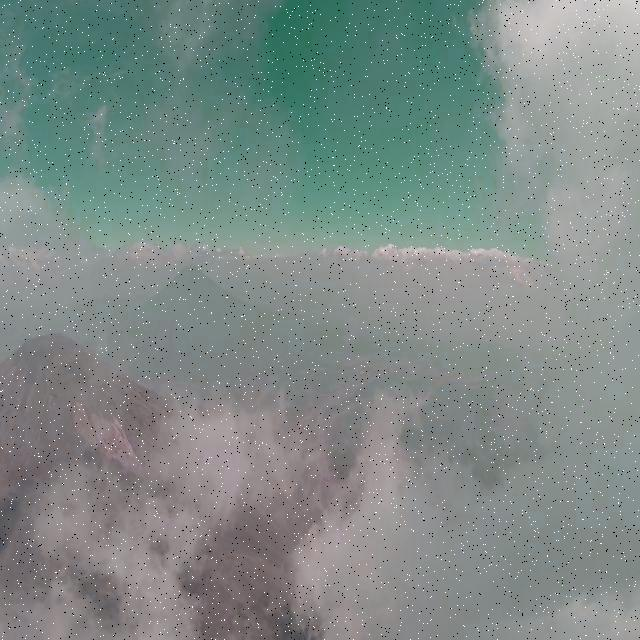Summit: (3, 323, 160, 494)
